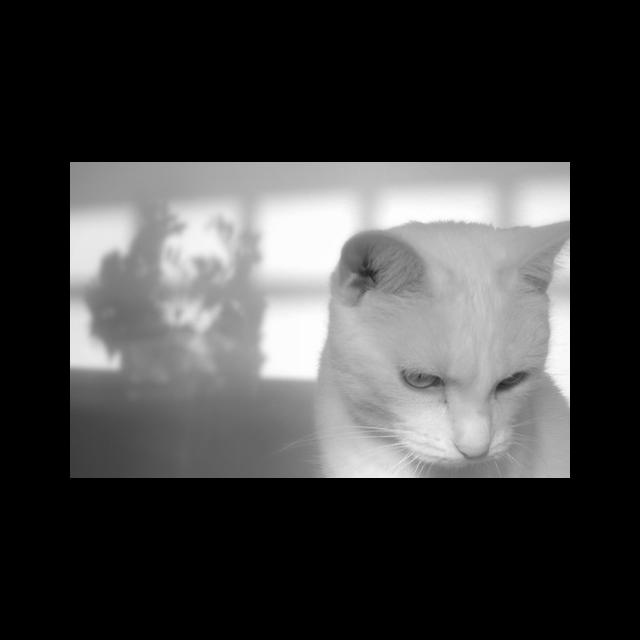animals: (339, 219, 570, 456)
